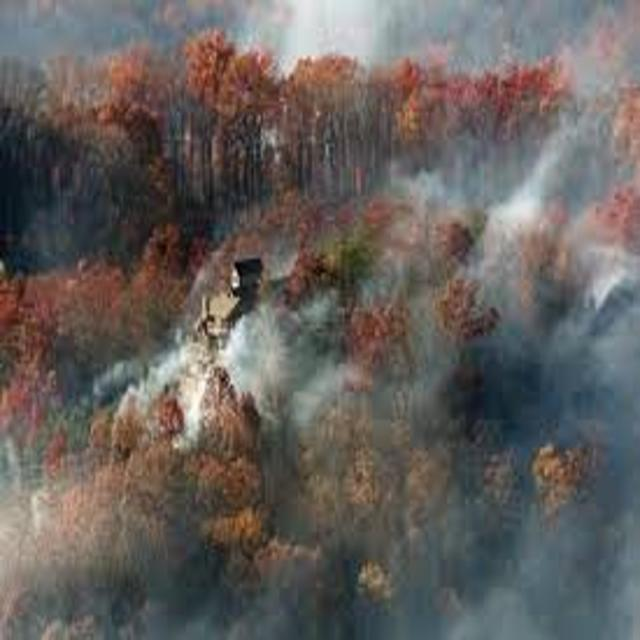Smoke: (476, 128, 640, 348), (460, 499, 640, 640), (128, 332, 354, 442), (242, 0, 424, 83)
